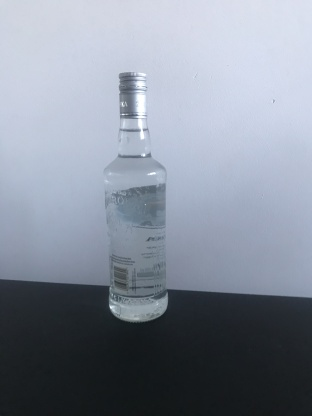nakretka: (117, 71, 148, 119)
